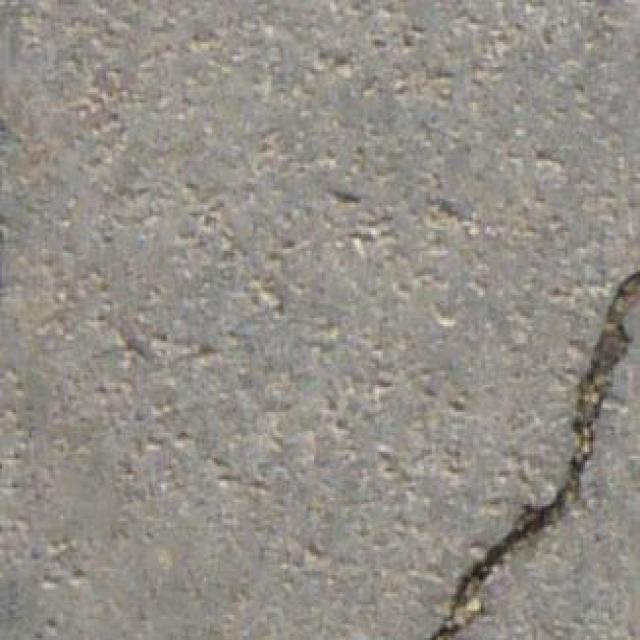diagonal crack: (428, 268, 638, 638)
